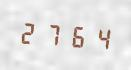four: (87, 21, 109, 53)
seven: (41, 18, 63, 49)
six: (64, 19, 86, 51)
two: (18, 16, 40, 48)
